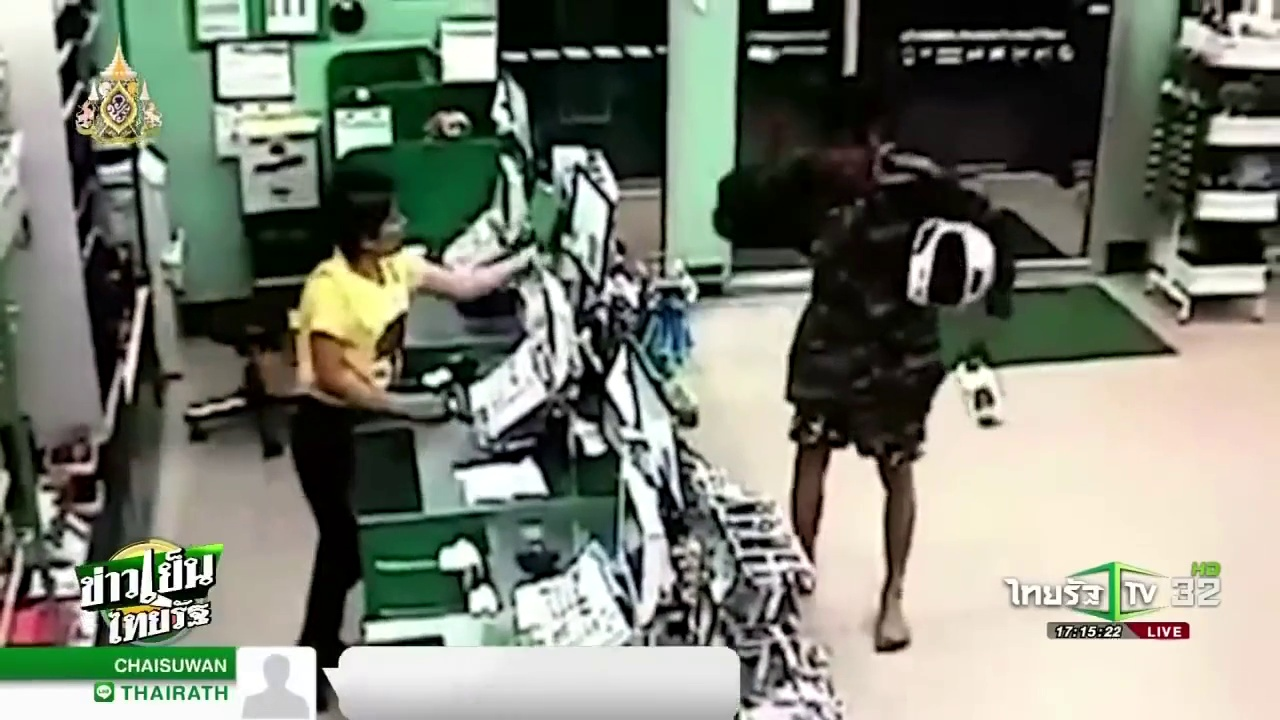helmet: (902, 208, 998, 308)
